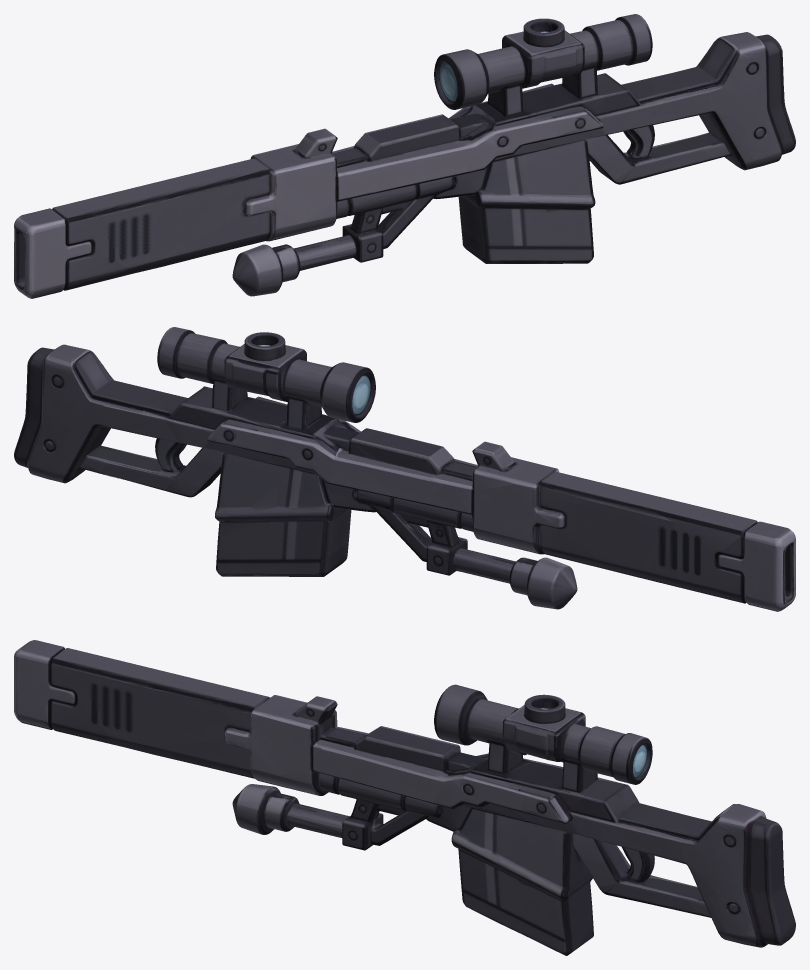
Rendered from shion-weapon.fbx.
The picture shows the model from 3 angles, top to bottom: view 1: azimuth 30°, elevation 25°; view 2: azimuth 150°, elevation 25°; view 3: azimuth 330°, elevation 25°; orthographic projection.
Visible parts, largest first — view 1: output_unwrapped; view 2: output_unwrapped; view 3: output_unwrapped.
Boxes of the visible parts, x1,y1,x2,y2 form: output_unwrapped: (14,14,795,298); output_unwrapped: (14,327,795,611); output_unwrapped: (14,640,795,955).
Size of the model in its own units: 190 by 56.13 by 17.17.
Materials: 1 (1 with a texture image).
